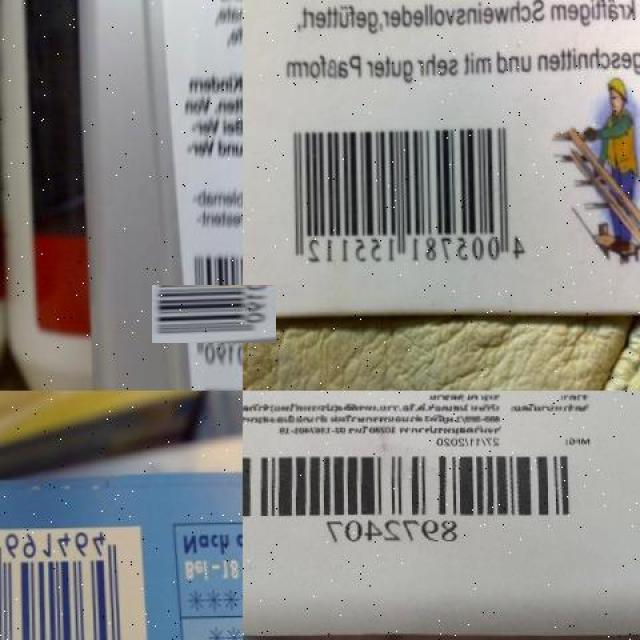Barcode: (276, 109, 535, 284), (243, 449, 588, 552), (0, 527, 153, 640), (168, 268, 260, 359)
